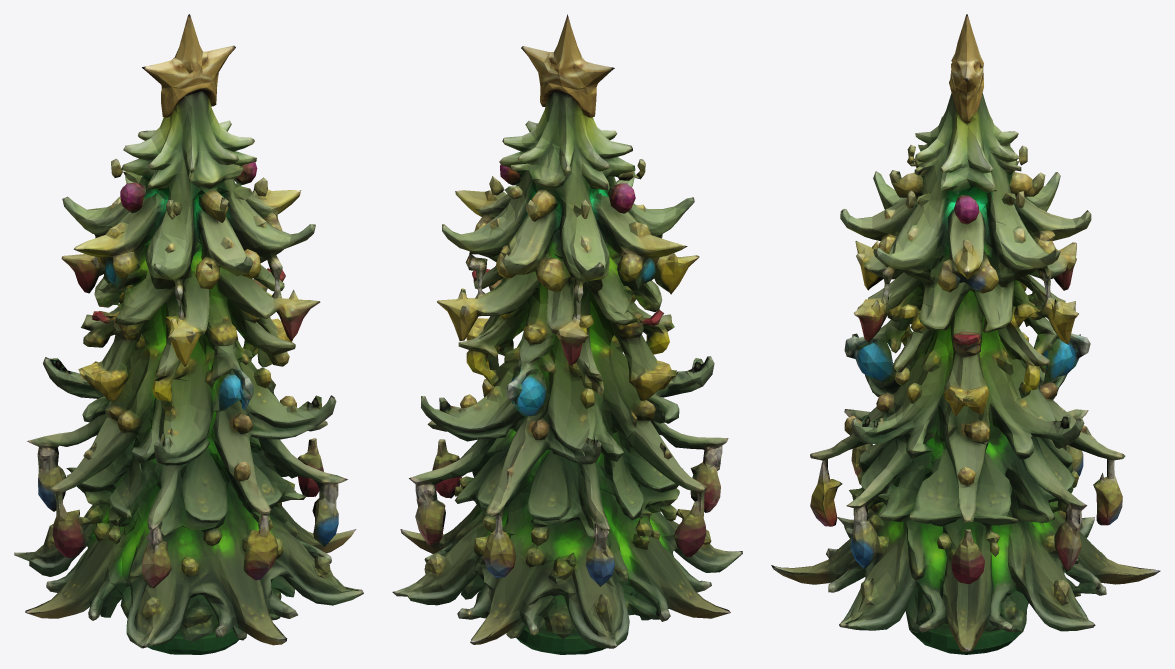
3 views of the same model, side by side, from view 1: azimuth 30°, elevation 25°; view 2: azimuth 150°, elevation 25°; view 3: azimuth 270°, elevation 25° (orthographic).
Visible parts, largest first — view 1: world; view 2: world; view 3: world.
Part boxes in pixels (bbox=[...]): world: bbox=[14, 14, 363, 654]; world: bbox=[392, 14, 742, 654]; world: bbox=[771, 14, 1160, 654].
Bounding box in the file's own units: 0.5598 × 1 × 0.5721.
Materials: 1 (1 with a texture image).
